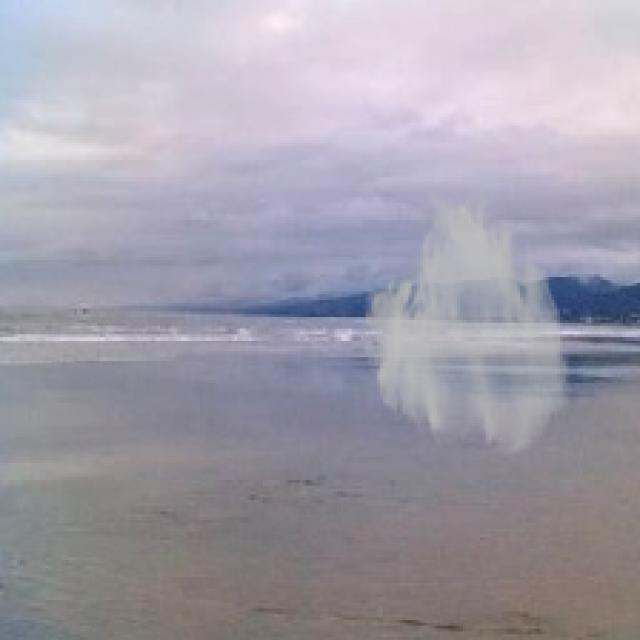Smoke: (359, 183, 572, 460)
